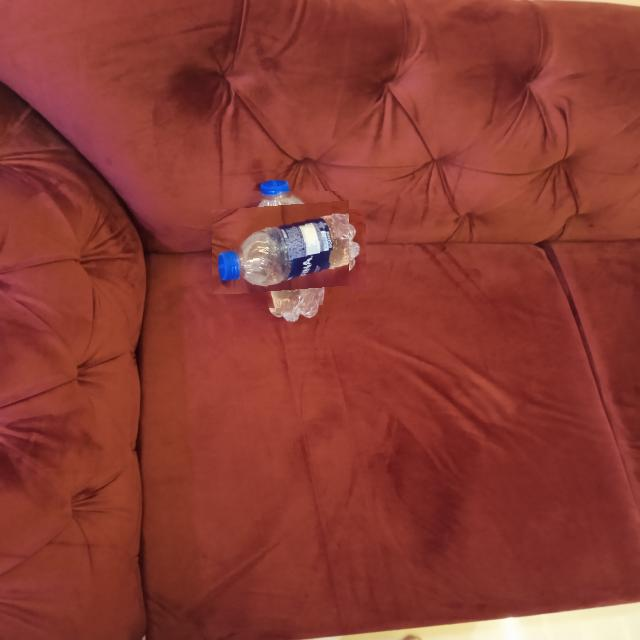Plastic: (229, 191, 349, 311)
